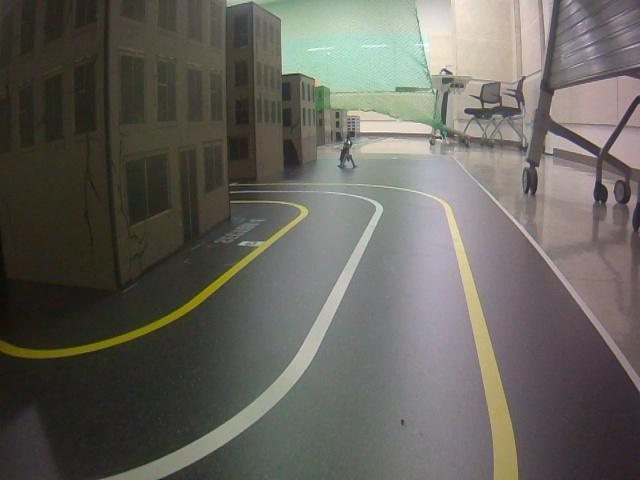Mortar: (339, 135, 357, 169)
